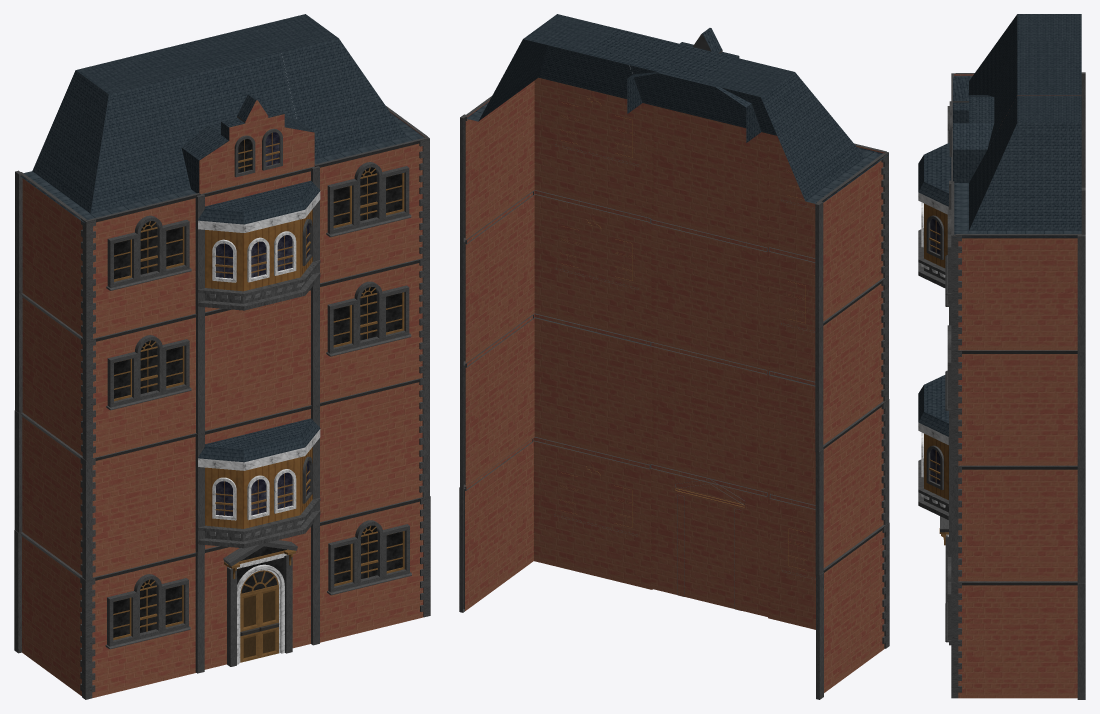
File: Mansion.001_House.004b.fbx
The picture shows the model from 3 angles, left to right: view 1: azimuth 30°, elevation 25°; view 2: azimuth 150°, elevation 25°; view 3: azimuth 270°, elevation 25°; orthographic projection. The views are drawn at different scales.
Visible parts, largest first — view 1: Mansion001_House_004; view 2: Mansion001_House_004; view 3: Mansion001_House_004.
Boxes of the visible parts, <box> form: Mansion001_House_004: <box>14,14,430,699</box>; Mansion001_House_004: <box>459,14,889,699</box>; Mansion001_House_004: <box>918,14,1085,699</box>.
Bounding box in the file's own units: 1212 × 1884 × 520.
